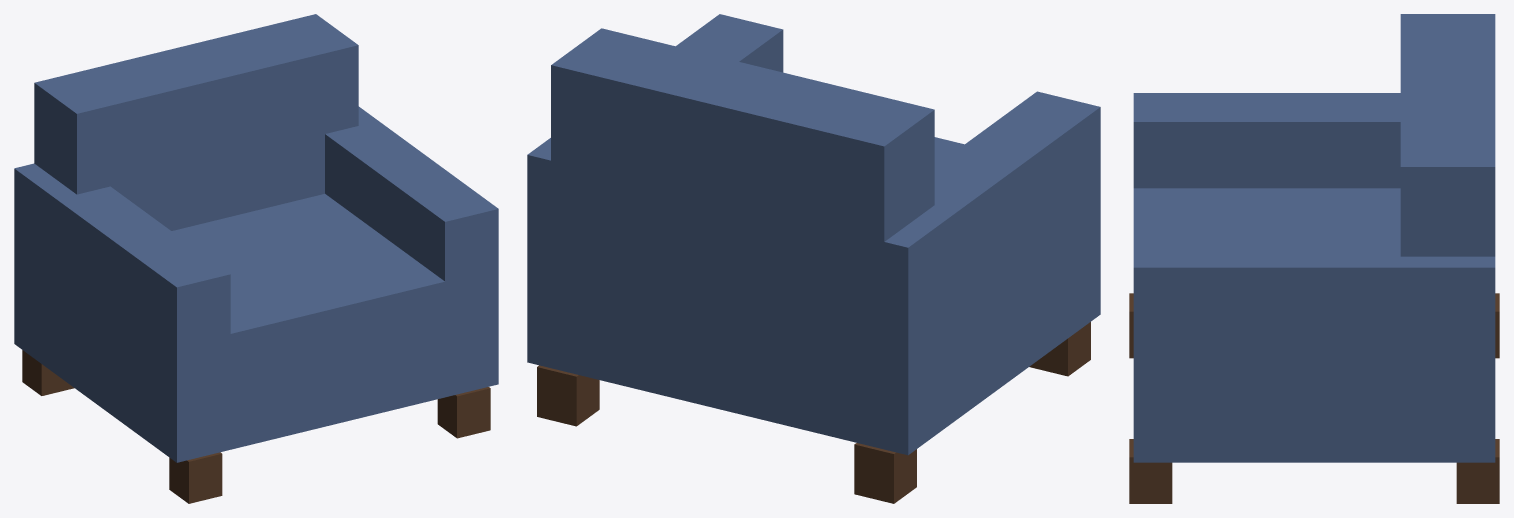
Rendered from armchair.glb.
3 renders of one model, left to right at view 1: azimuth 30°, elevation 25°; view 2: azimuth 150°, elevation 25°; view 3: azimuth 270°, elevation 25°, orthographic. The views are drawn at different scales.
Parts seen in each view (by area): view 1: armchair; view 2: armchair; view 3: armchair.
Part boxes in pixels (bbox=[...]): armchair: bbox=[14, 14, 498, 503]; armchair: bbox=[527, 14, 1100, 503]; armchair: bbox=[1129, 14, 1499, 503].
Bounding box in the file's own units: 0.96 × 0.85 × 0.86.
